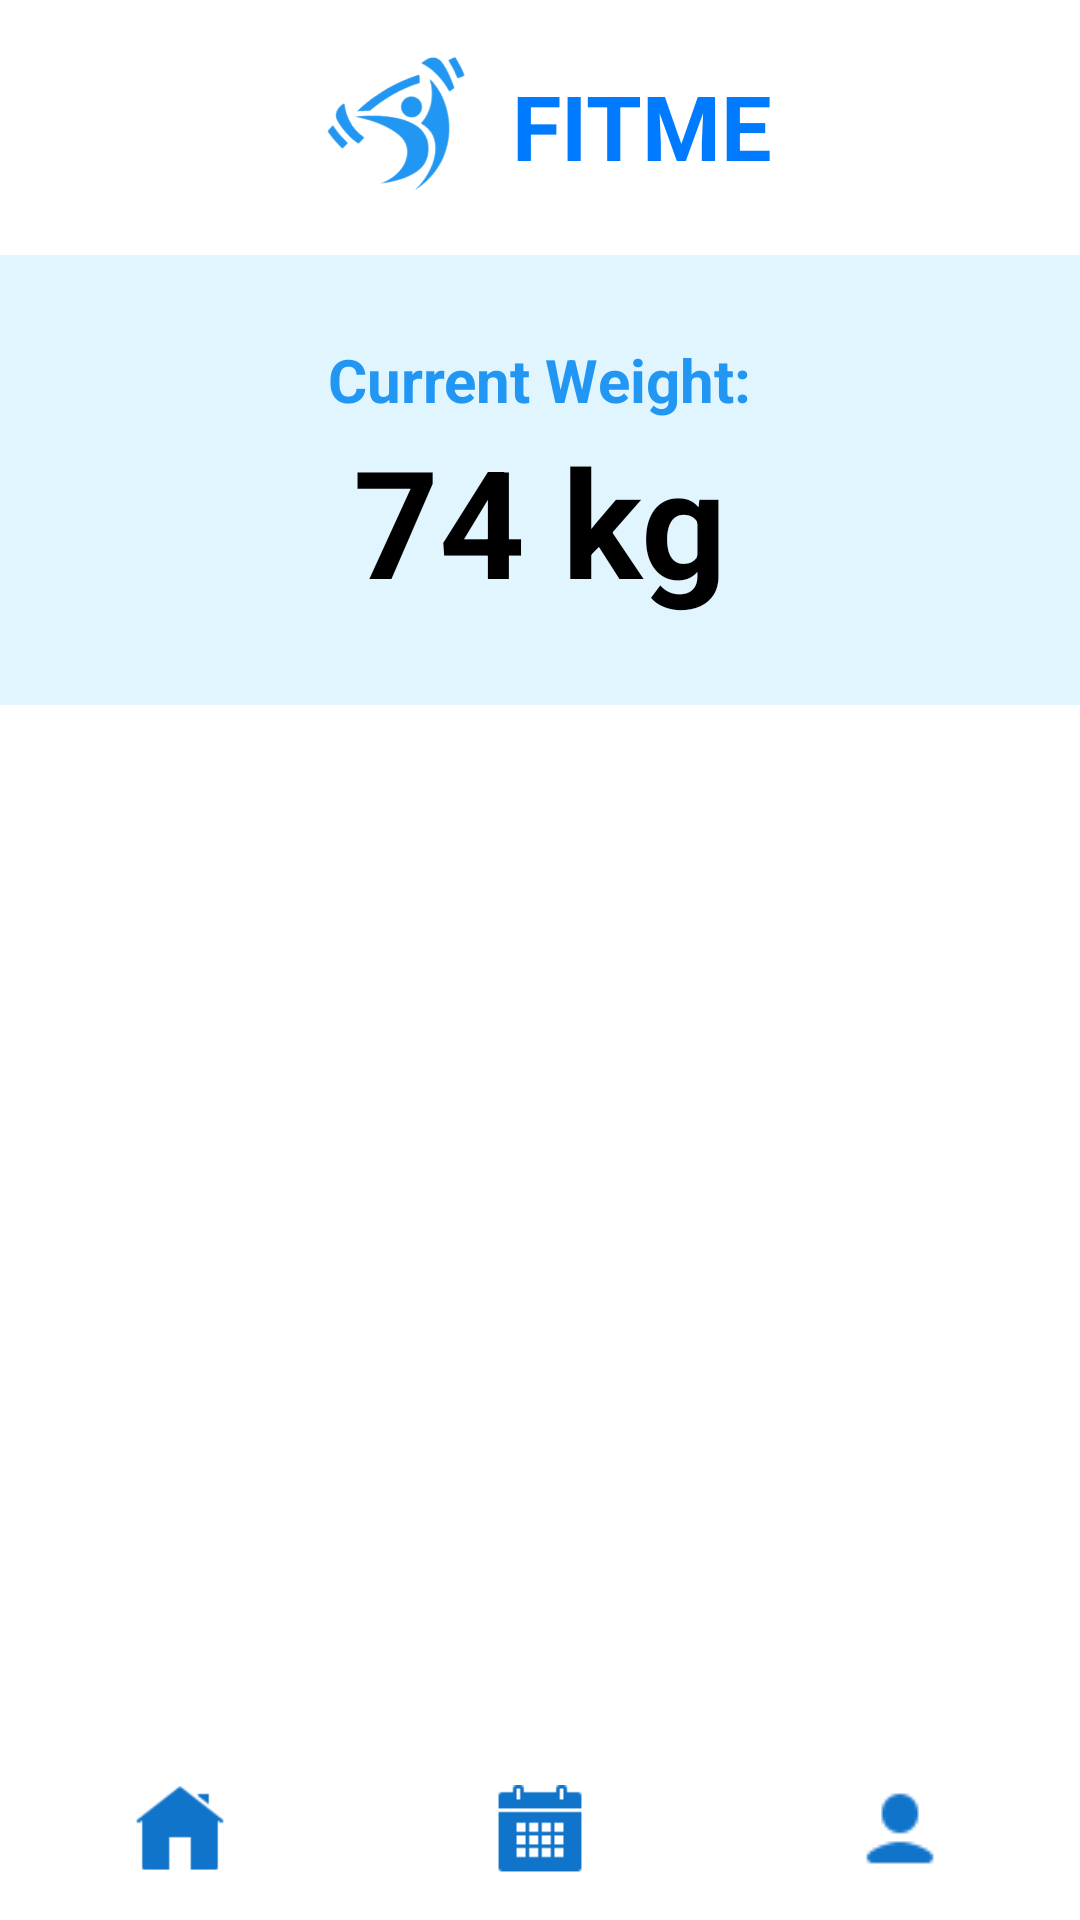

Screen size 1080w x 1920h. Icon name, then its box in pixels as [x1,y1,x2,y2]:
calendar: [498,1785,582,1872]
home: [136,1786,224,1870]
profile: [866,1793,934,1864]
